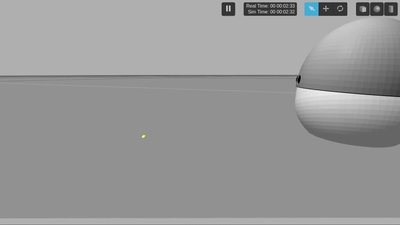mira_robot: (293, 17, 400, 150)
